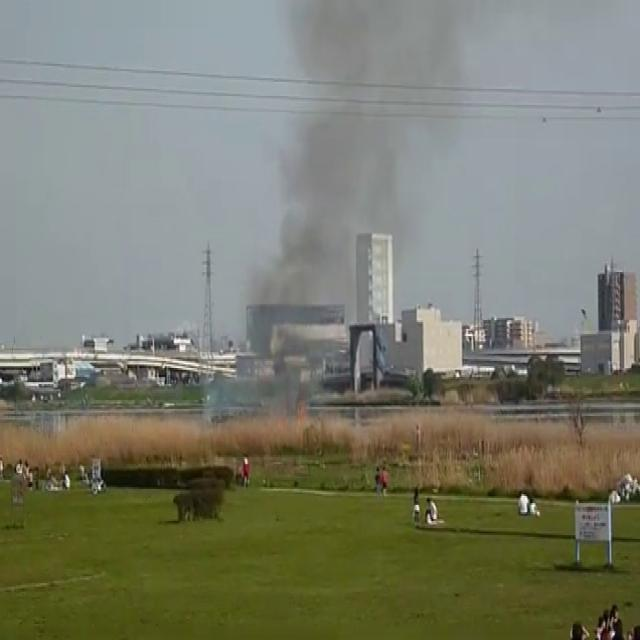Smoke: (221, 1, 453, 442)
